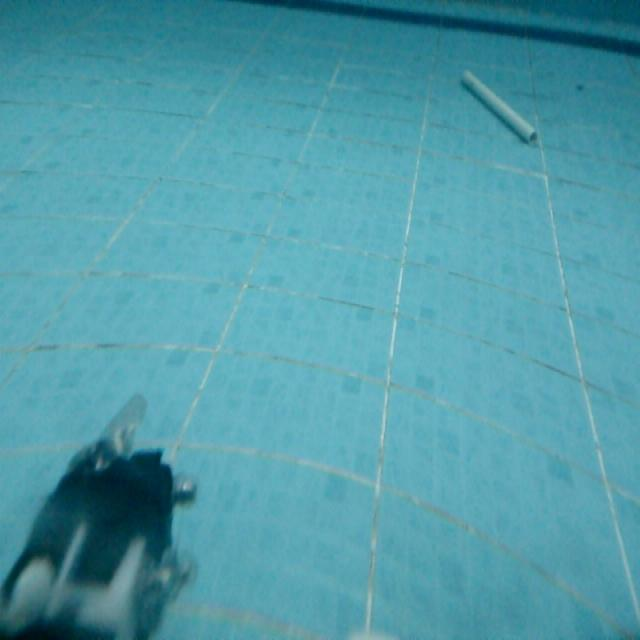Cube: (460, 67, 539, 144)
